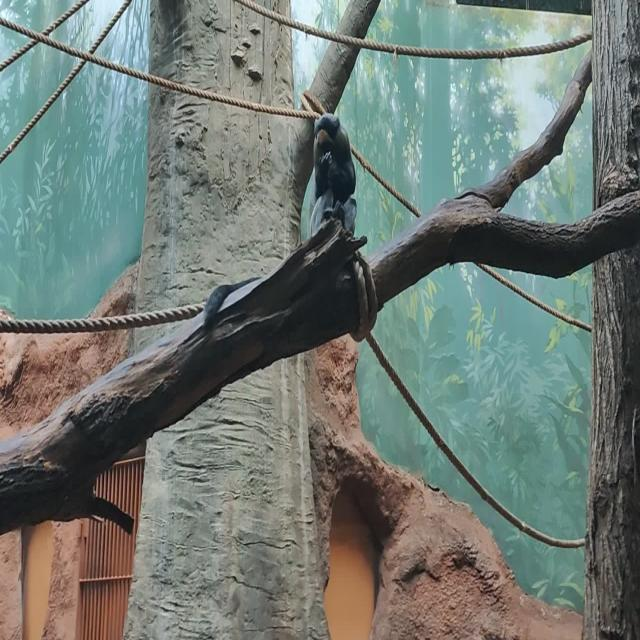monkey: (307, 114, 357, 239)
